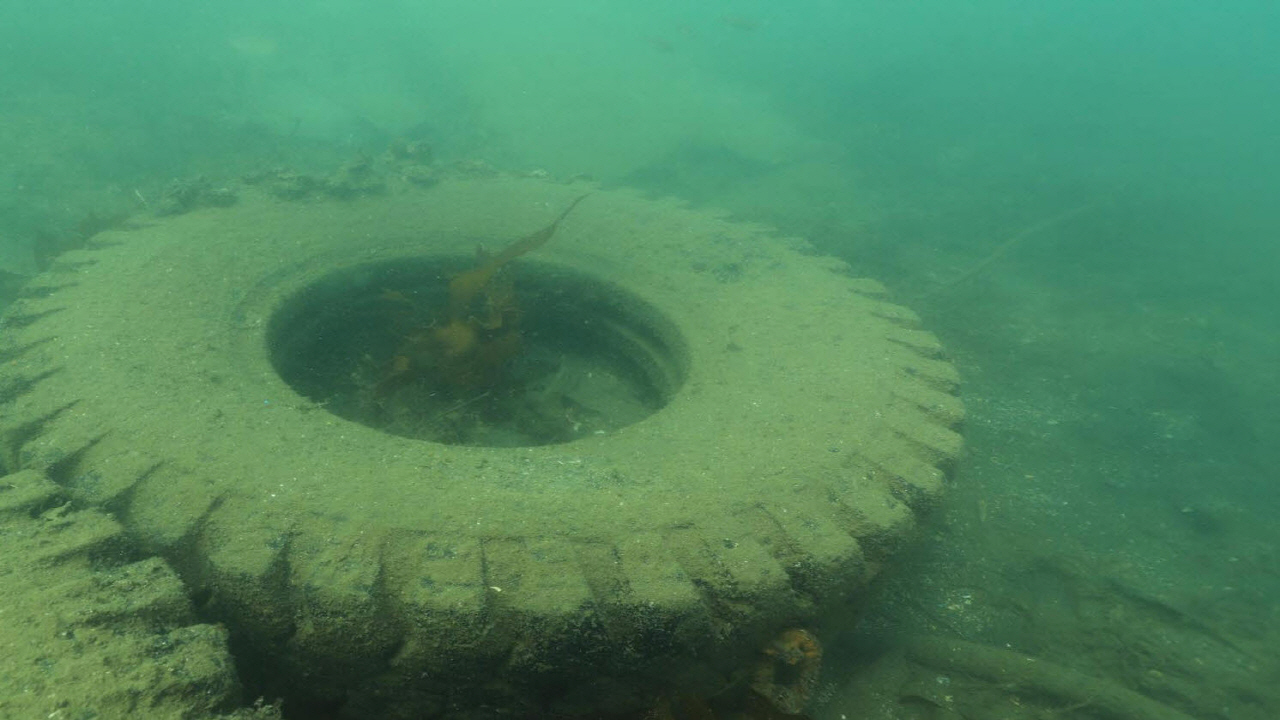tire: (0, 176, 968, 720)
